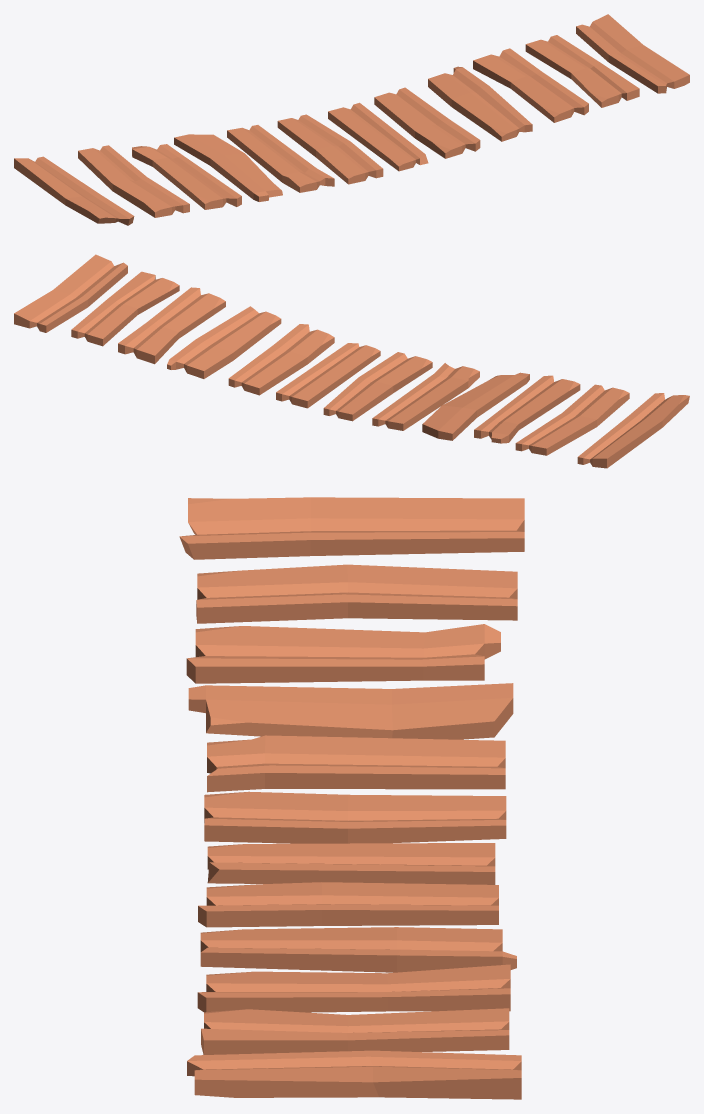
The model's file is Bridge.fbx.
3 renders of one model, top to bottom at view 1: azimuth 30°, elevation 25°; view 2: azimuth 150°, elevation 25°; view 3: azimuth 270°, elevation 25°, orthographic. The views are drawn at different scales.
Visible parts, largest first — view 1: Cube.010; view 2: Cube.010; view 3: Cube.010.
Part boxes in pixels (x1,y1,x2,y2): Cube.010: (14,14,689,225); Cube.010: (14,254,689,468); Cube.010: (179,497,524,1099).
Size of the model in its own units: 5008 by 251 by 1257.
